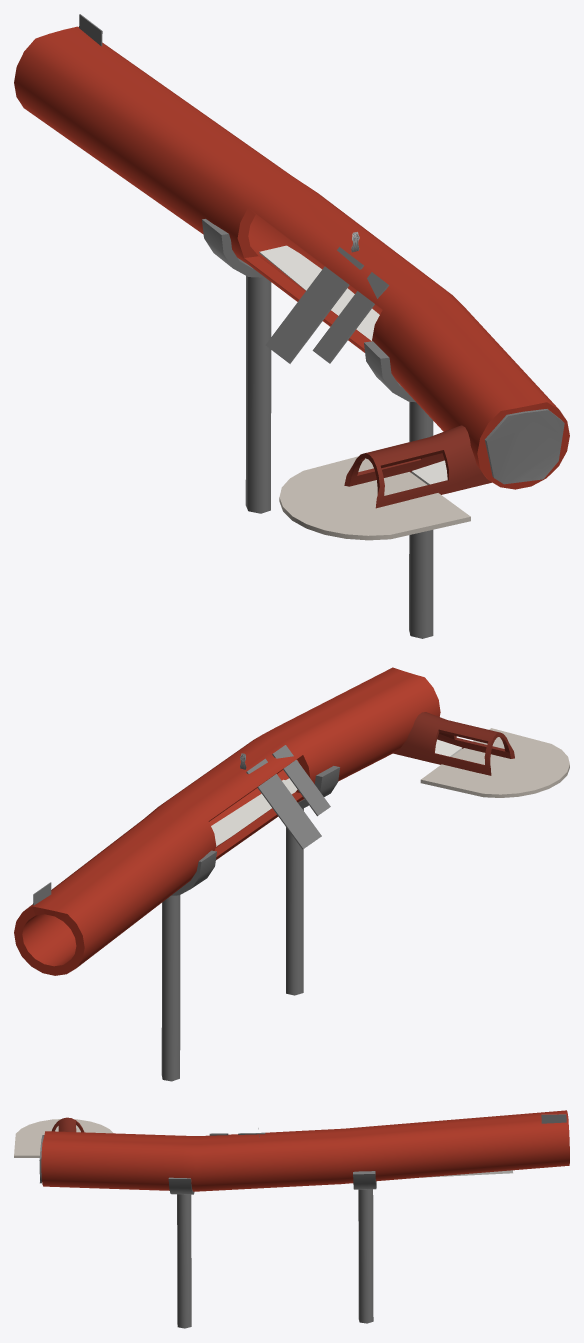
File: BigTunnelWithPerson.fbx
3 views of the same model, one above another, from view 1: azimuth 30°, elevation 25°; view 2: azimuth 150°, elevation 25°; view 3: azimuth 270°, elevation 25° (orthographic). The views are drawn at different scales.
Parts seen in each view (by area): view 1: Pipe, Cylinder, Cylinder_1, TunnelEntrance, Cube_1, Cylinder_2, Cube__6_, Cube__7_, Floor__1_, Arch, Arch_1; view 2: Pipe, Cylinder, TunnelEntrance, Cylinder_1, Cylinder_2, Cube__6_, Floor__1_, Cube__7_, Arch, Arch_1; view 3: Pipe, Cylinder_1, Cylinder_2, Cylinder, Arch, Arch_1, TunnelEntrance.
Boxes of the visible parts, left/top/right/bottom form: Pipe: left=14, top=26, right=569, bottom=489; Cylinder: left=279, top=456, right=470, bottom=540; Cylinder_1: left=245, top=276, right=271, bottom=513; TunnelEntrance: left=344, top=425, right=491, bottom=508; Cube_1: left=484, top=409, right=564, bottom=484; Cylinder_2: left=409, top=401, right=433, bottom=638; Cube__6_: left=265, top=247, right=363, bottom=363; Cube__7_: left=312, top=272, right=389, bottom=363; Floor__1_: left=259, top=245, right=379, bottom=340; Arch: left=202, top=219, right=264, bottom=277; Arch_1: left=364, top=341, right=415, bottom=402; Pipe: left=14, top=667, right=440, bottom=975; Cylinder: left=420, top=728, right=569, bottom=797; TunnelEntrance: left=393, top=712, right=514, bottom=775; Cylinder_1: left=161, top=895, right=180, bottom=1081; Cylinder_2: left=286, top=808, right=303, bottom=995; Cube__6_: left=246, top=758, right=321, bottom=849; Floor__1_: left=211, top=779, right=297, bottom=846; Cube__7_: left=272, top=745, right=330, bottom=816; Arch: left=171, top=850, right=216, bottom=895; Arch_1: left=298, top=766, right=339, bottom=808; Pipe: left=41, top=1110, right=569, bottom=1191; Cylinder_1: left=358, top=1189, right=373, bottom=1323; Cylinder_2: left=177, top=1194, right=191, bottom=1328; Cylinder: left=14, top=1119, right=113, bottom=1157; Arch: left=353, top=1171, right=376, bottom=1189; Arch_1: left=168, top=1177, right=194, bottom=1194; TunnelEntrance: left=52, top=1117, right=84, bottom=1132.
Size of the model in its own units: 9156 by 11274 by 27028.
